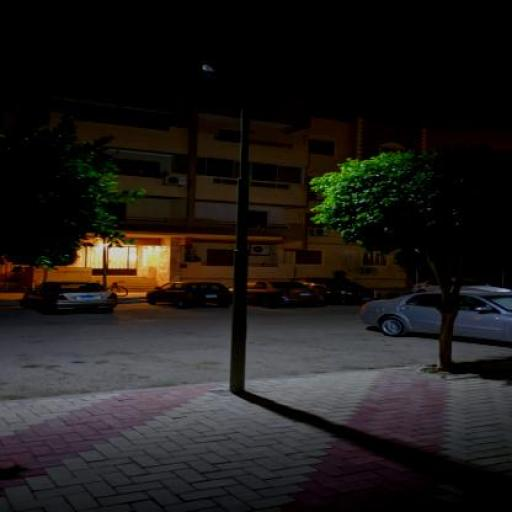street light: (197, 62, 253, 392)
